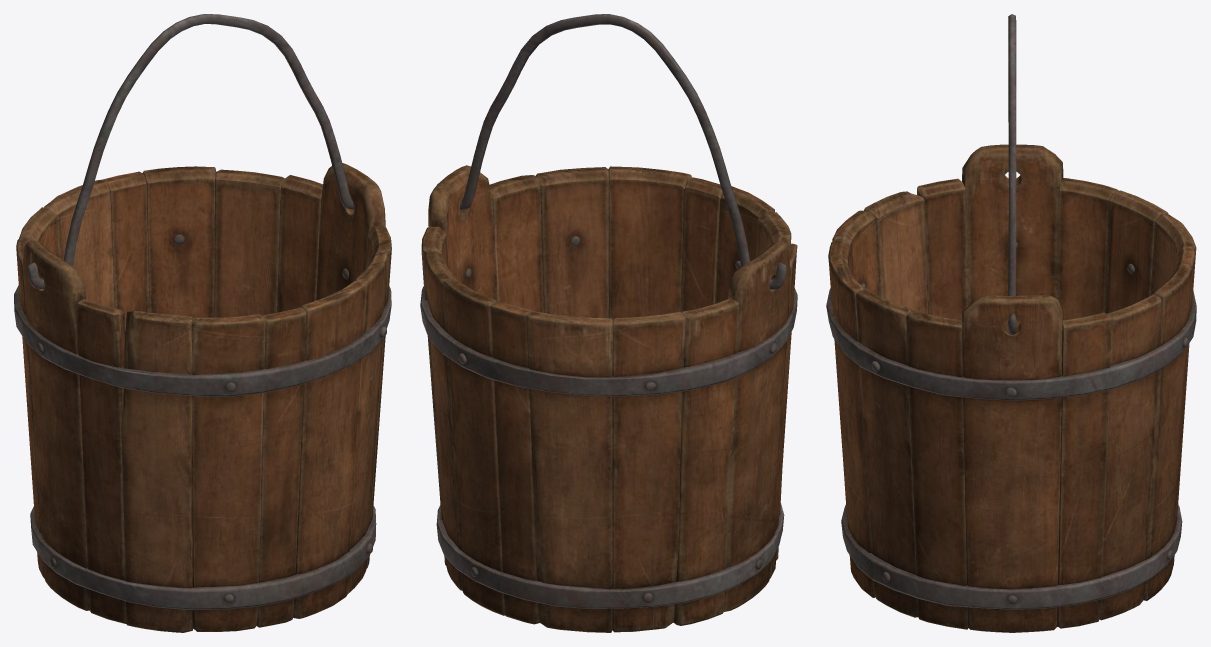
File: bucket.glb
3 renders of one model, left to right at view 1: azimuth 30°, elevation 25°; view 2: azimuth 150°, elevation 25°; view 3: azimuth 270°, elevation 25°, orthographic.
Parts seen in each view (by area): view 1: wooden_bucket_01, wooden_bucket_01_handle; view 2: wooden_bucket_01, wooden_bucket_01_handle; view 3: wooden_bucket_01, wooden_bucket_01_handle.
Boxes of the visible parts, bbox=[...] form: wooden_bucket_01: bbox=[14, 163, 391, 632]; wooden_bucket_01_handle: bbox=[27, 14, 354, 289]; wooden_bucket_01: bbox=[420, 165, 797, 632]; wooden_bucket_01_handle: bbox=[437, 14, 786, 289]; wooden_bucket_01: bbox=[826, 144, 1196, 632]; wooden_bucket_01_handle: bbox=[1008, 14, 1016, 335].
Size of the model in its own units: 0.367 by 0.5499 by 0.3422.
Materials: 1 (1 with a texture image).
